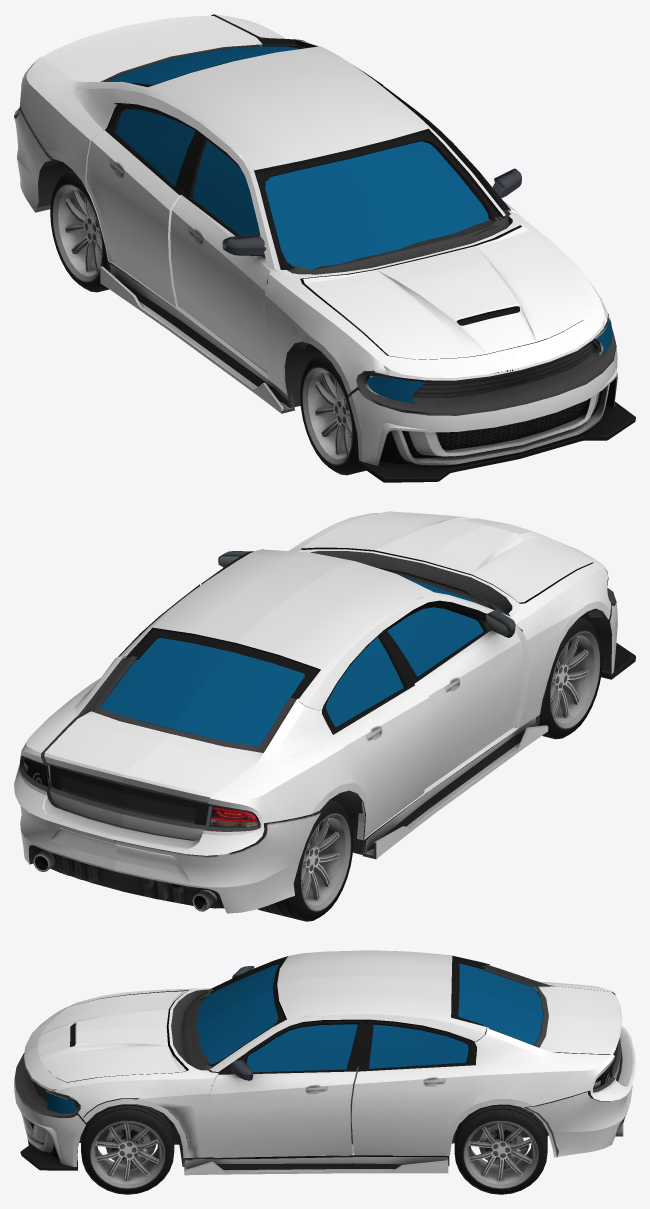
Rendered from Car14.fbx.
3 renders of one model, top to bottom at view 1: azimuth 30°, elevation 25°; view 2: azimuth 150°, elevation 25°; view 3: azimuth 270°, elevation 25°, orthographic. The views are drawn at different scales.
Visible parts, largest first — view 1: Body, Roof, Hood, _Glass_F, DC3_Sport_3_Bumper_F_2, DC3_Sport_3_Door_BL, DC3_Sport_3_Door_FR, Trunk, Wing_1, DC3_Sport_3_Sidepanel_R_3__1_, DC3_Sport_3_Glass_FR, Metal_3 (+10 smaller); view 2: Body, Roof, Trunk, BumperB, _Glass_B, Hood, DC3_Sport_3_Door_FR, DC3_Sport_3_Door_BL, Wing_1, DC3_Sport_3_Sidepanel_R_3__1_, DC3_Sport_3_Glass_FR, DC3_Sport_3_Glass_BL (+7 smaller); view 3: Body, Roof, DC3_Sport_3_Door_FR__1_, DC3_Sport_3_Door_BL_1, Hood, Trunk, _Glass_F, Wing, _Glass_B, DC3_Sport_3_Sidepanel_L_3__1_, BumperB, DC3_Sport_3_Glass_FR_1 (+10 smaller).
Part boxes in pixels (x1,y1,x2,y2): Body: [14, 14, 615, 413]; Roof: [112, 40, 505, 270]; Hood: [303, 226, 595, 359]; _Glass_F: [265, 141, 489, 269]; DC3_Sport_3_Bumper_F_2: [348, 344, 635, 482]; DC3_Sport_3_Door_BL: [86, 104, 200, 307]; DC3_Sport_3_Door_FR: [170, 134, 271, 370]; Trunk: [43, 16, 262, 81]; Wing_1: [264, 274, 388, 394]; DC3_Sport_3_Sidepanel_R_3__1_: [100, 264, 294, 413]; DC3_Sport_3_Glass_FR: [192, 140, 259, 235]; Metal_3: [53, 185, 102, 281]; Body: [14, 513, 615, 855]; Roof: [119, 549, 511, 710]; Trunk: [44, 711, 263, 839]; BumperB: [20, 805, 321, 913]; _Glass_B: [100, 638, 304, 746]; Hood: [301, 511, 592, 603]; DC3_Sport_3_Door_FR: [383, 619, 523, 788]; DC3_Sport_3_Door_BL: [321, 631, 434, 840]; Wing_1: [516, 568, 610, 727]; DC3_Sport_3_Sidepanel_R_3__1_: [362, 717, 548, 859]; DC3_Sport_3_Glass_FR: [387, 607, 483, 676]; DC3_Sport_3_Glass_BL: [326, 637, 403, 727]; Body: [15, 964, 635, 1166]; Roof: [208, 950, 489, 1072]; DC3_Sport_3_Door_FR__1_: [208, 1020, 365, 1157]; DC3_Sport_3_Door_BL_1: [351, 1020, 477, 1155]; Hood: [37, 990, 187, 1082]; Trunk: [538, 986, 622, 1078]; _Glass_F: [196, 964, 278, 1064]; Wing: [51, 1078, 215, 1157]; _Glass_B: [458, 963, 542, 1045]; DC3_Sport_3_Sidepanel_L_3__1_: [184, 1157, 448, 1175]; BumperB: [521, 1085, 632, 1157]; DC3_Sport_3_Glass_FR_1: [246, 1024, 357, 1072].
Bounding box in the file's own units: 289 × 217 × 708.
